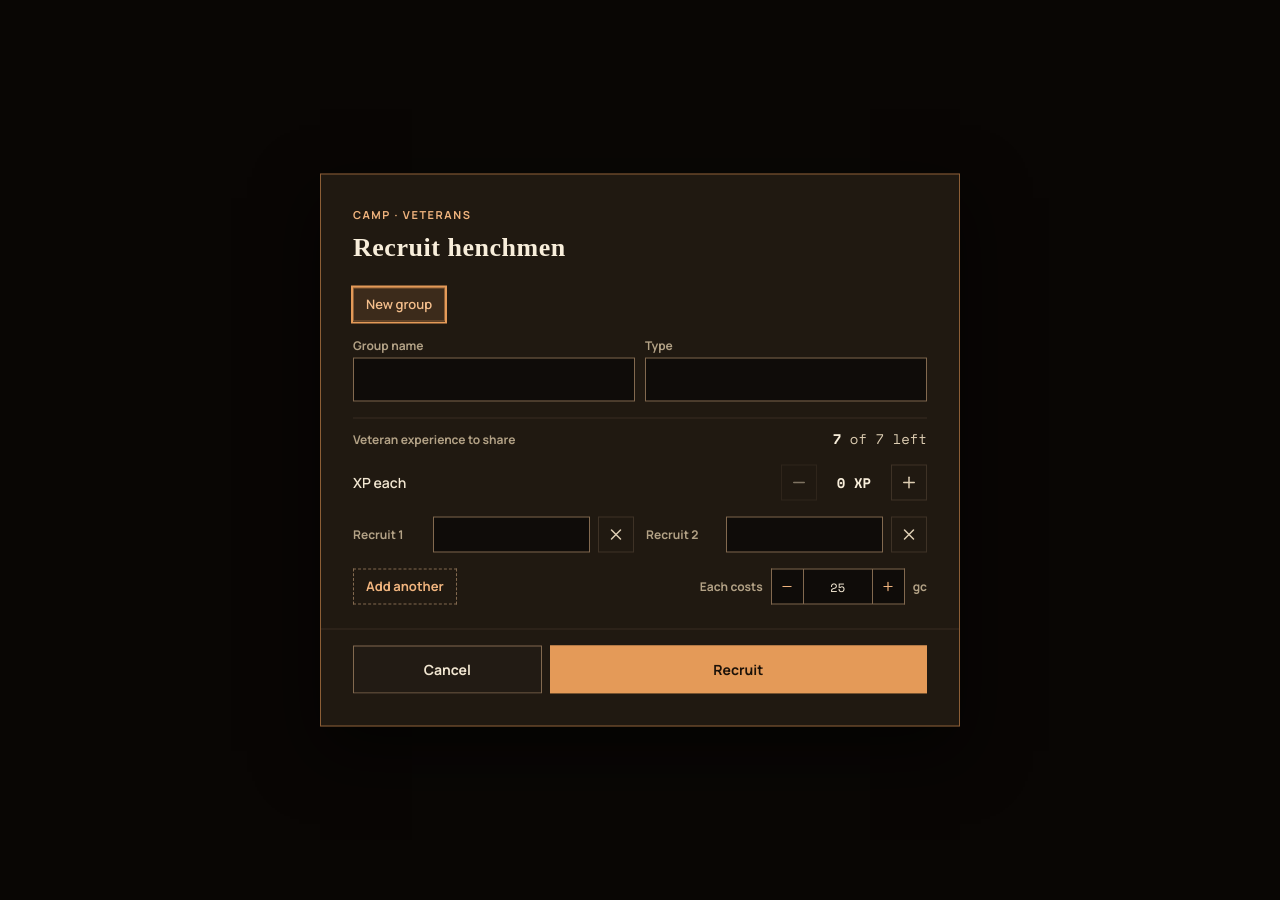
Test: Camp's Recruit henchmen › won't recruit a recruit left unnamed, and Remove and Add another follow the list
The width and height of the screenshot is (1280, 900).
Later steps or results of the test are not shown.
Type "Bravos" into the field labelled "Group name". click: (494, 380)
box: [353,358,635,402]
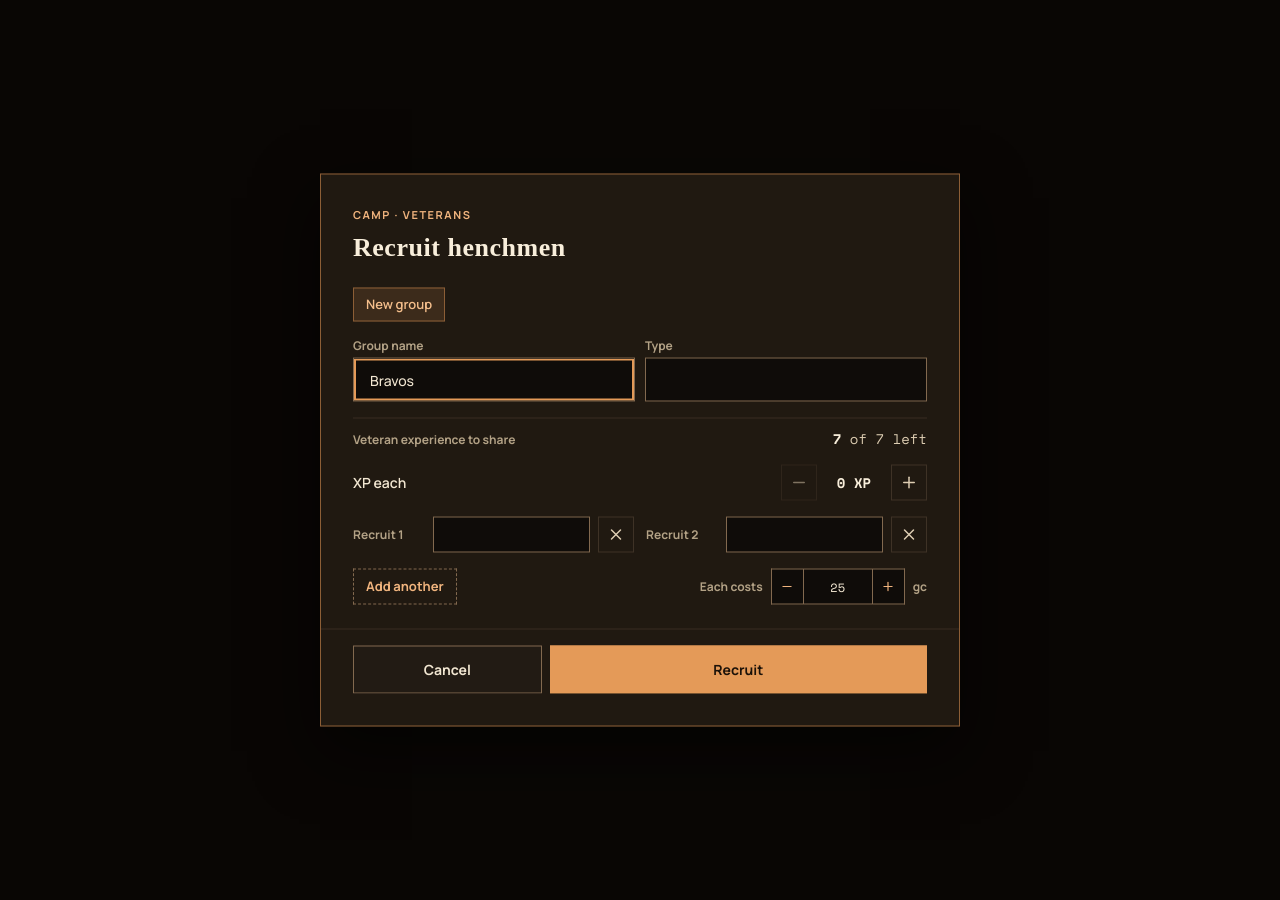
Type "Otto" into the field labelled "Recruit 1". click: (512, 534)
box: [433,516,590,552]
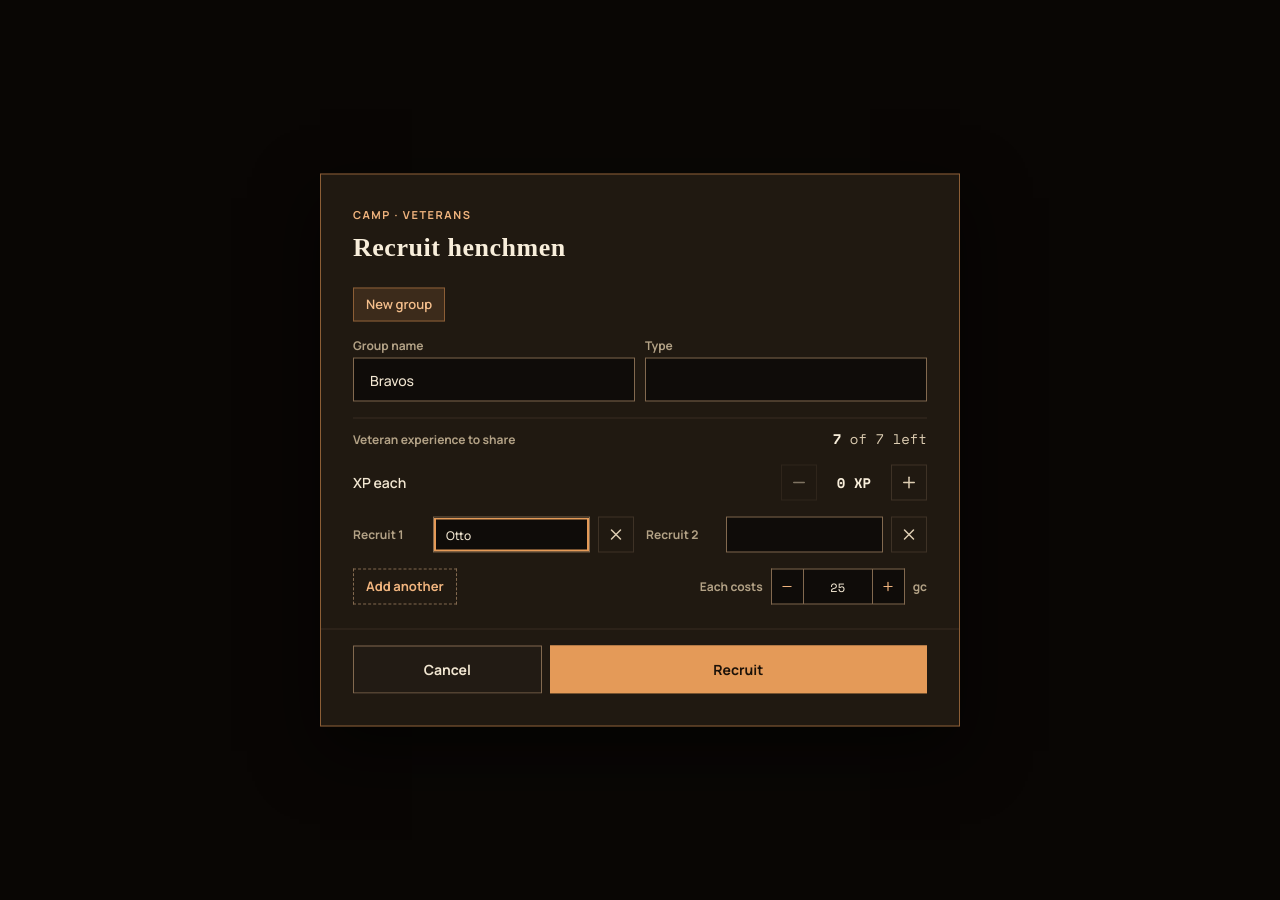
Click the button "Recruit". click: click(738, 670)
box: [550,646,927,694]
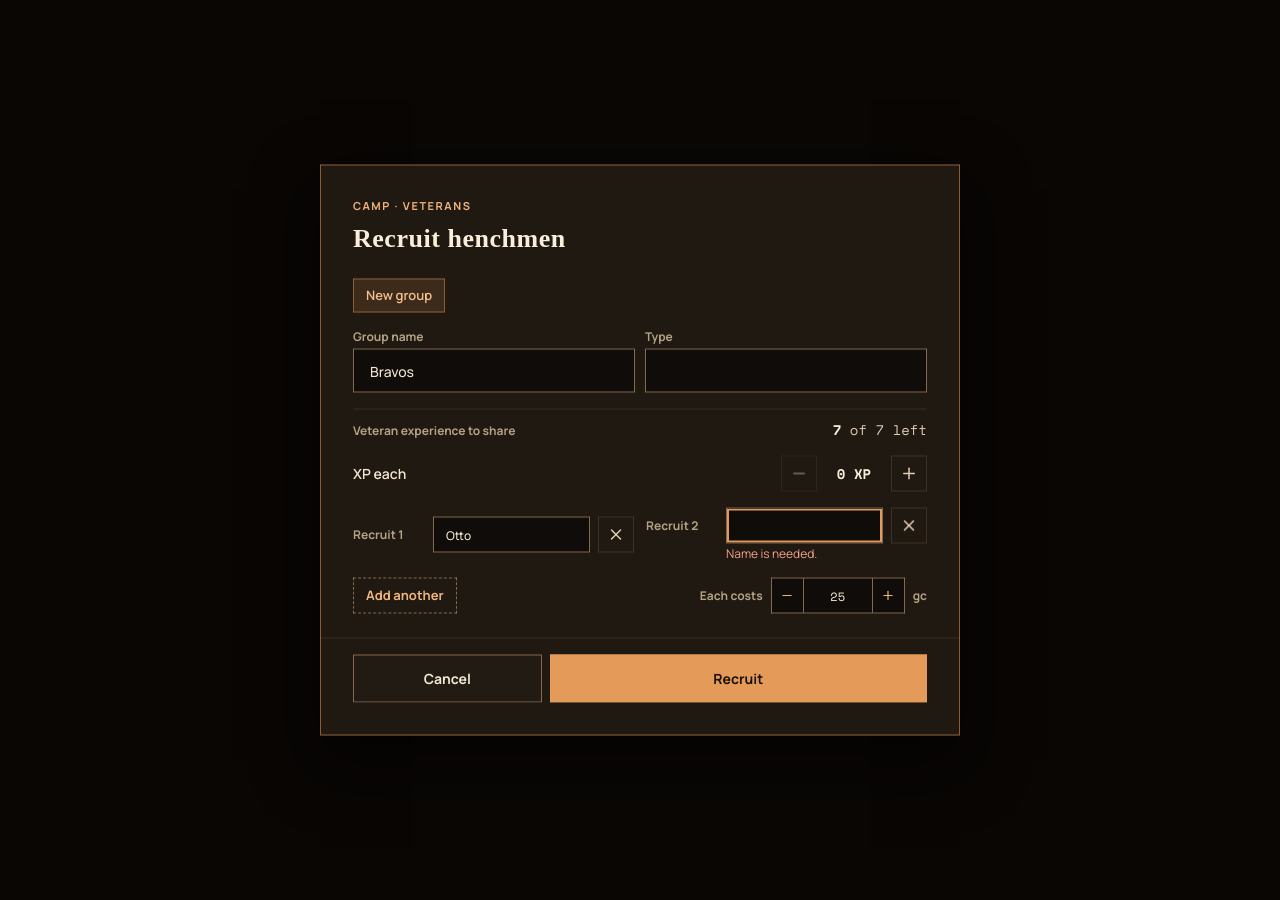
Now the text "Name is needed." is shown once, box [726,544,817,562]
Click the button named "Remove recruit 1". click: click(616, 534)
box: [598,516,634,552]
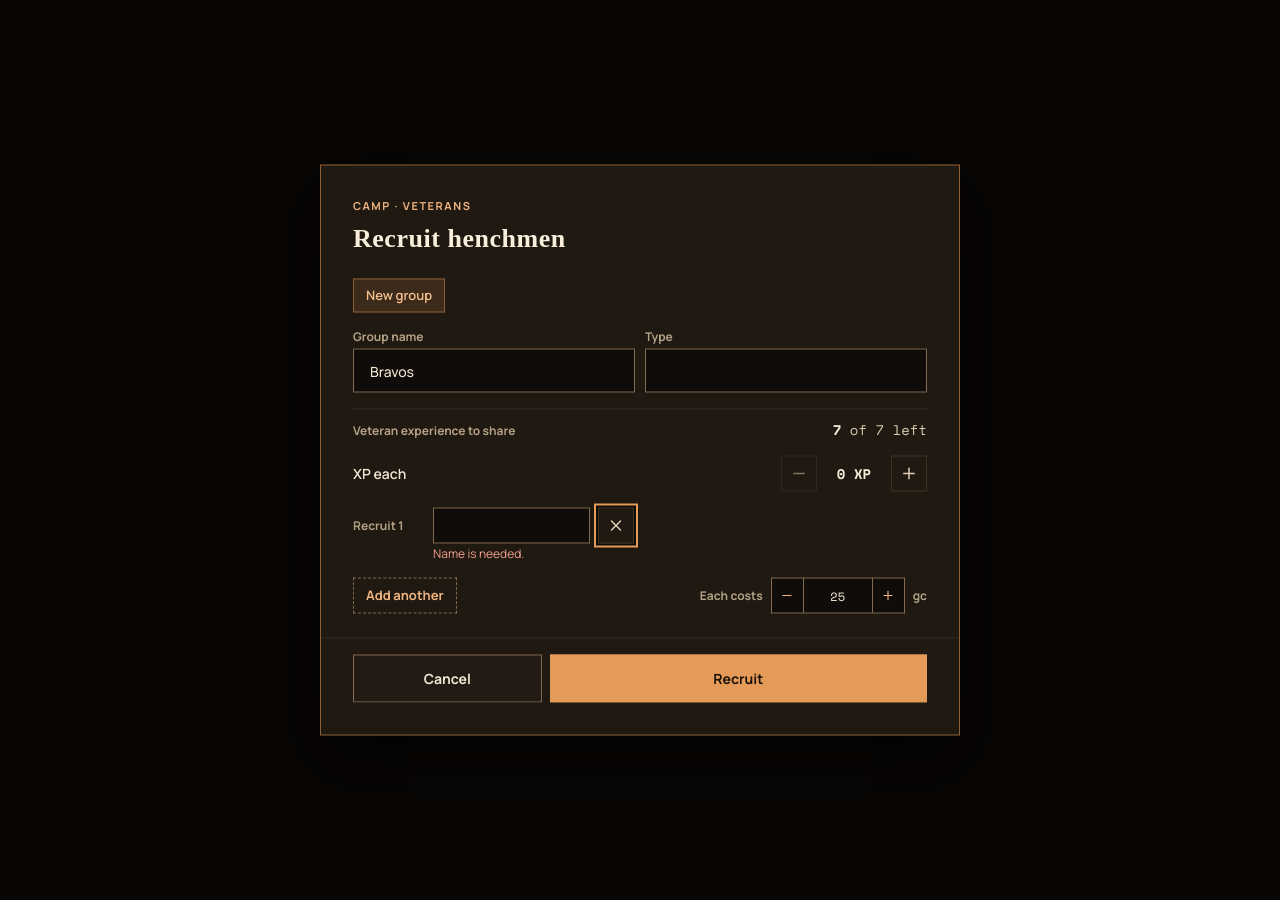
Now the label labelled "Recruit 2" is gone
Now the field labelled "Recruit 1" is empty, box [433,508,590,544]
